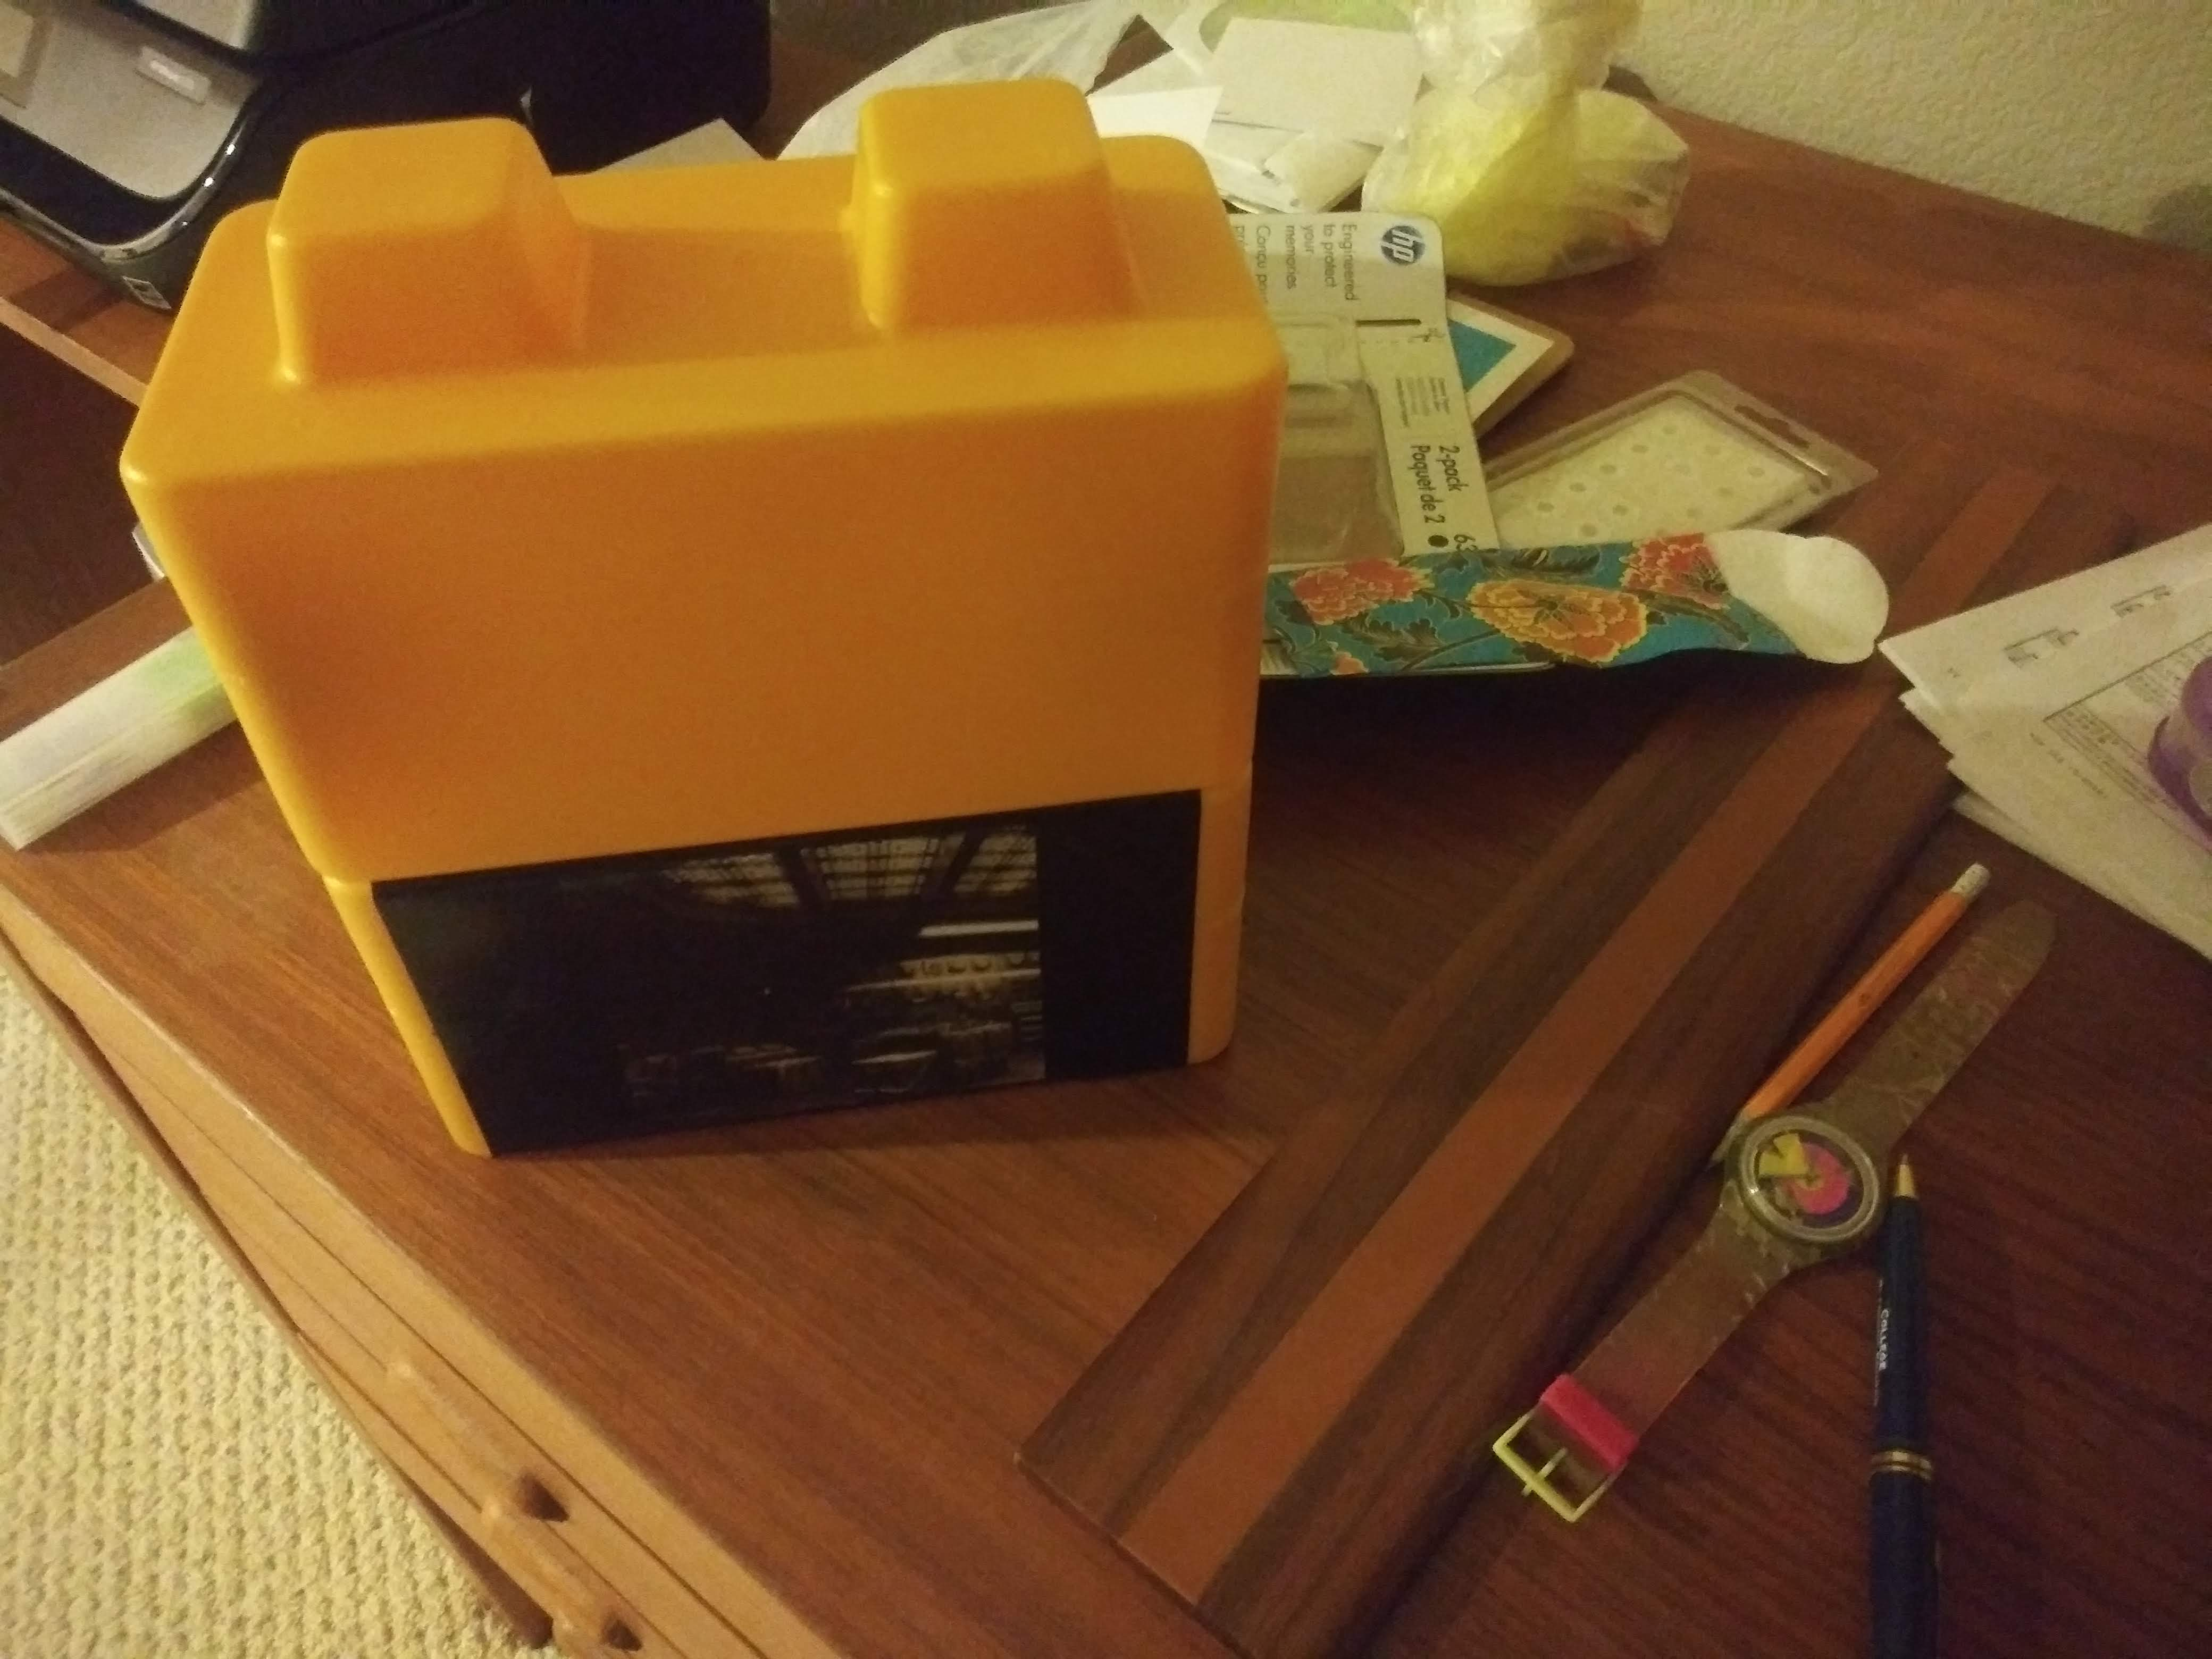skystone: (347, 824, 1251, 1129)
stone: (153, 270, 1273, 796)
